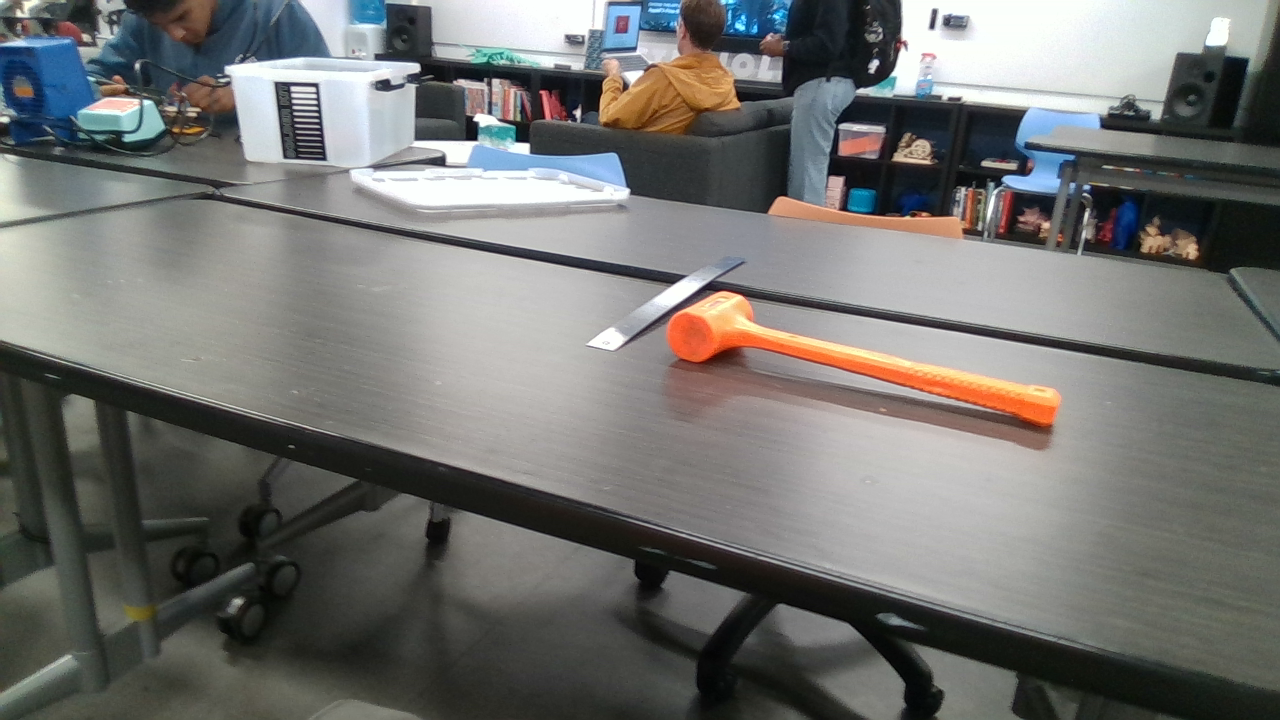Orange Hammer: (666, 291, 1062, 427)
